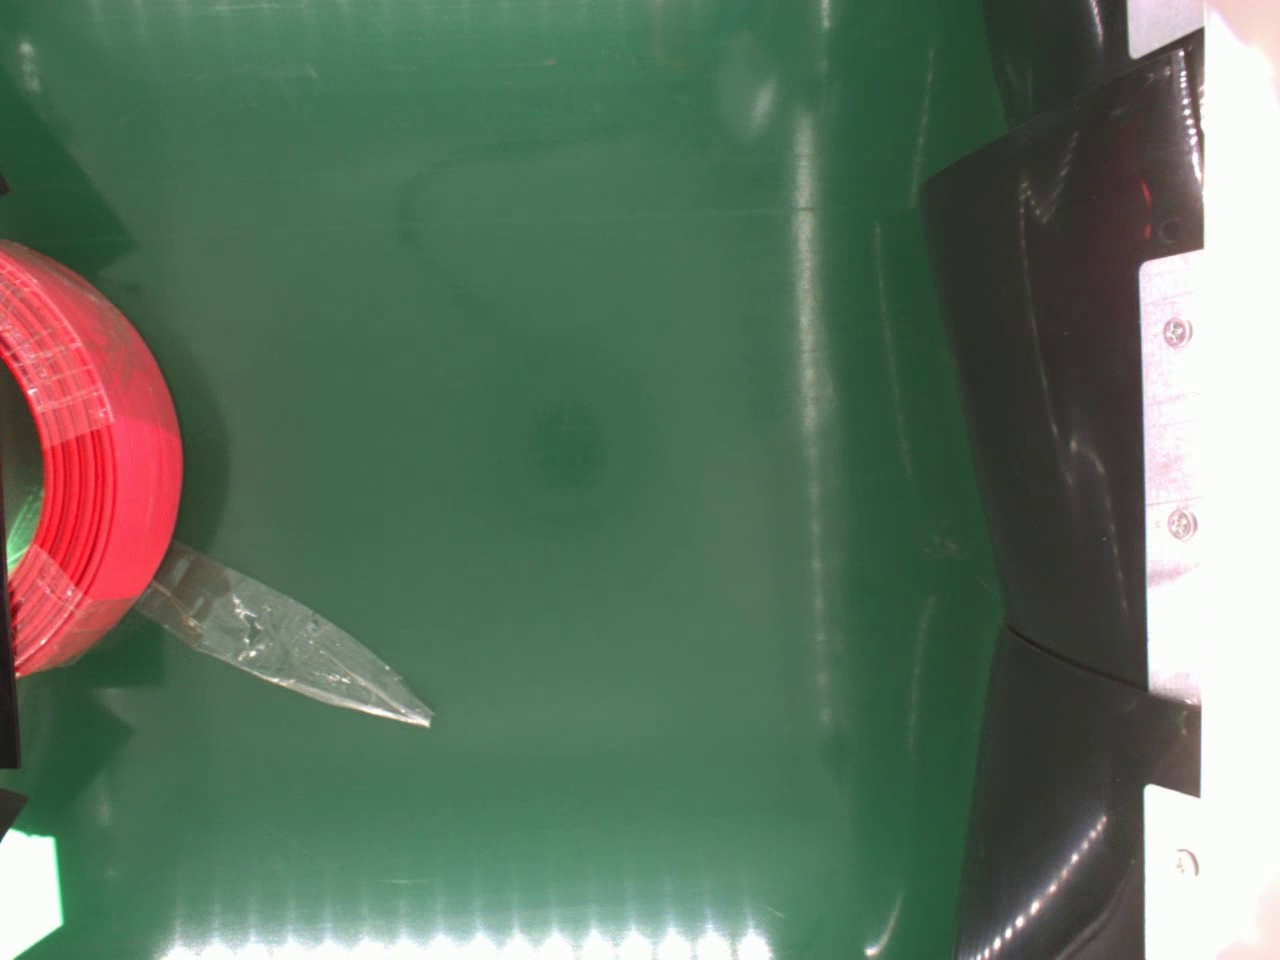red: (0, 233, 184, 684)
